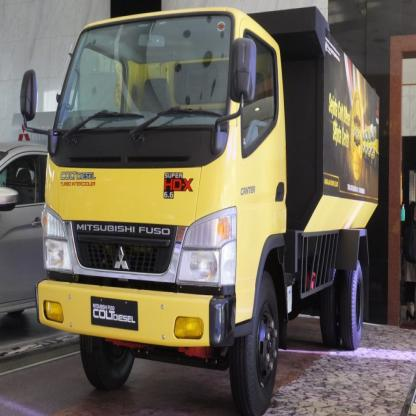truck: (20, 8, 380, 416)
